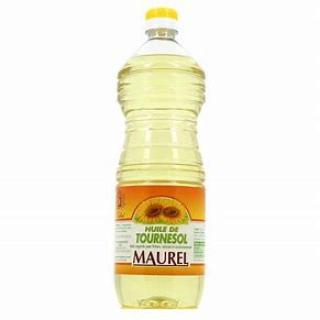Plastic-bottle: (107, 4, 215, 312)
